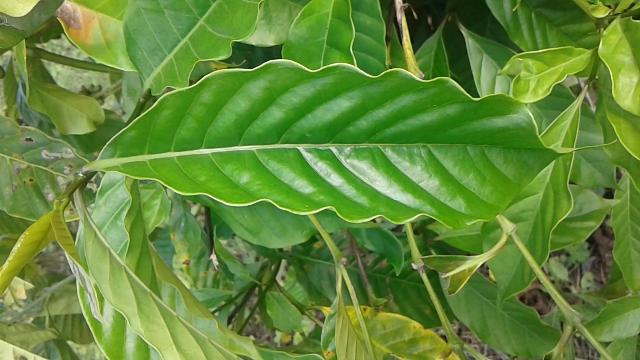healthy: (93, 54, 625, 232)
